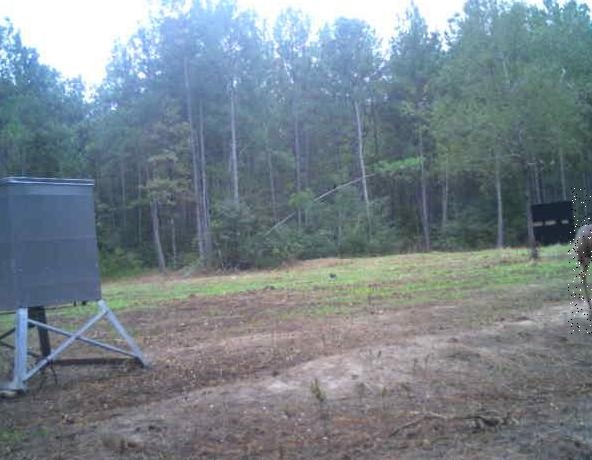Deer: (568, 188, 592, 336)
